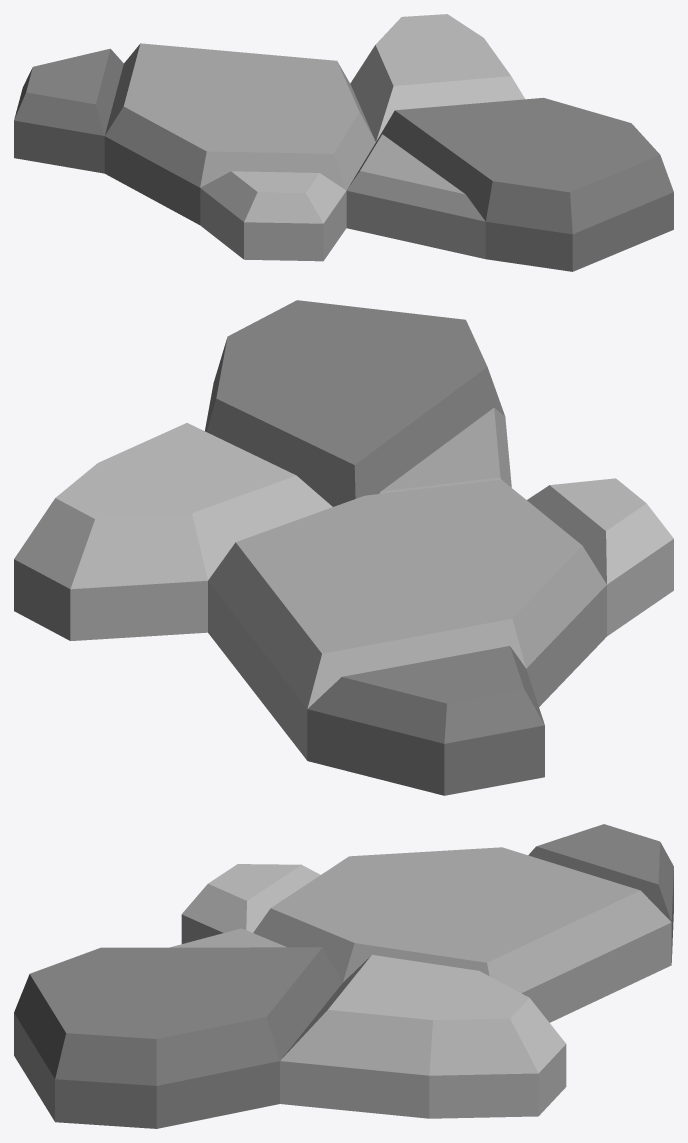
Rendered from rock-type4-01-grey.glb.
3 renders of one model, top to bottom at view 1: azimuth 30°, elevation 25°; view 2: azimuth 150°, elevation 25°; view 3: azimuth 270°, elevation 25°, orthographic. The views are drawn at different scales.
Visible parts, largest first — view 1: Rock_Type4_01_mesh; view 2: Rock_Type4_01_mesh; view 3: Rock_Type4_01_mesh.
Part boxes in pixels (<box>): Rock_Type4_01_mesh: <box>14,14,673,271</box>; Rock_Type4_01_mesh: <box>14,300,673,795</box>; Rock_Type4_01_mesh: <box>14,824,673,1128</box>.
Size of the model in its own units: 1.86 by 0.3156 by 2.14.
1 material, 1 textured.
